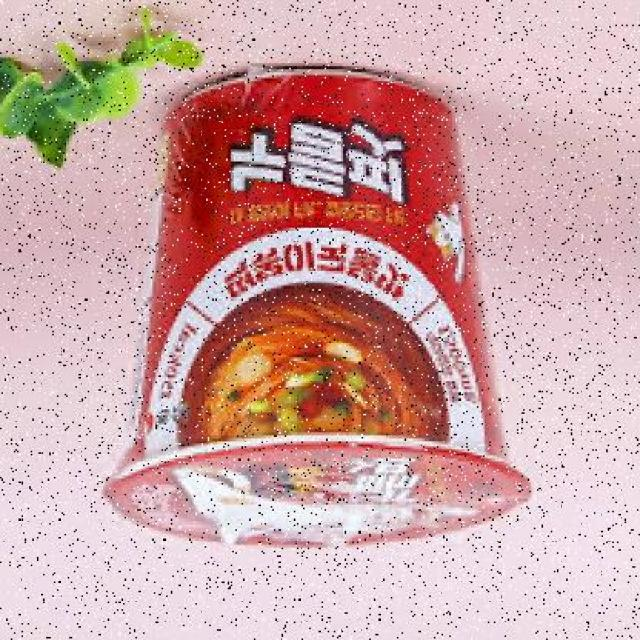Miscellaneous: (74, 52, 571, 563)
